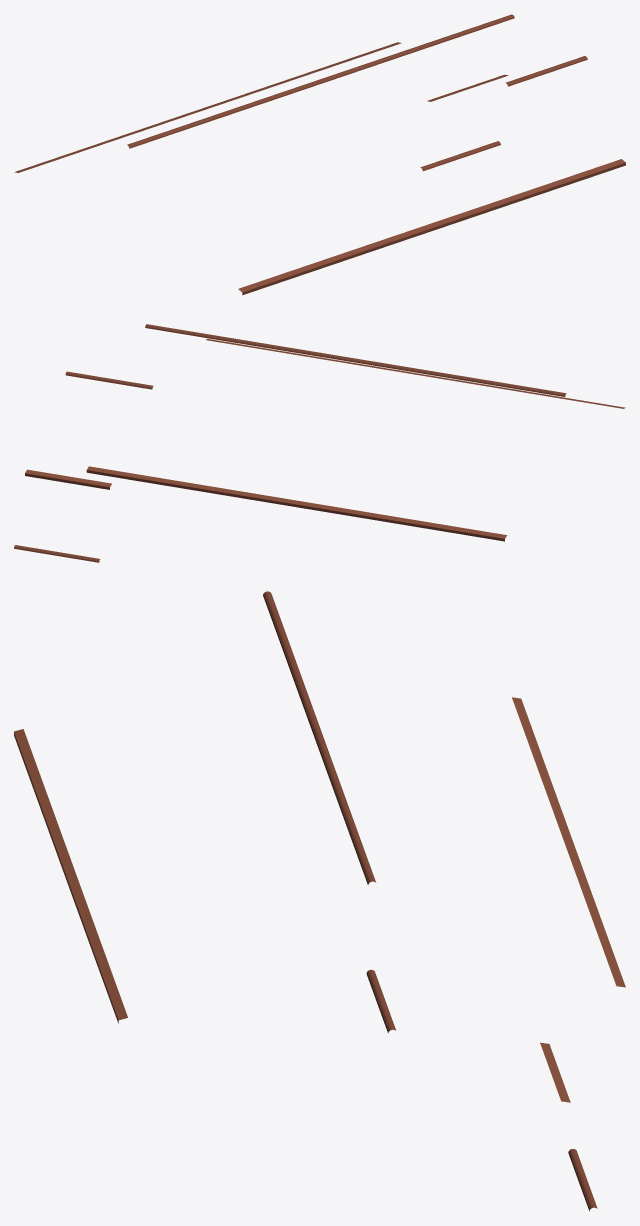
3 views of the same model, one above another, from view 1: azimuth 30°, elevation 25°; view 2: azimuth 150°, elevation 25°; view 3: azimuth 270°, elevation 25° (orthographic). The views are drawn at different scales.
Visible parts, largest first — view 1: detail; view 2: detail; view 3: detail.
Boxes of the visible parts, <box> form: detail: <box>14,14,625,295</box>; detail: <box>14,324,625,562</box>; detail: <box>14,591,625,1211</box>.
Bounding box in the file's own units: 28.35 × 10.43 × 20.29.
